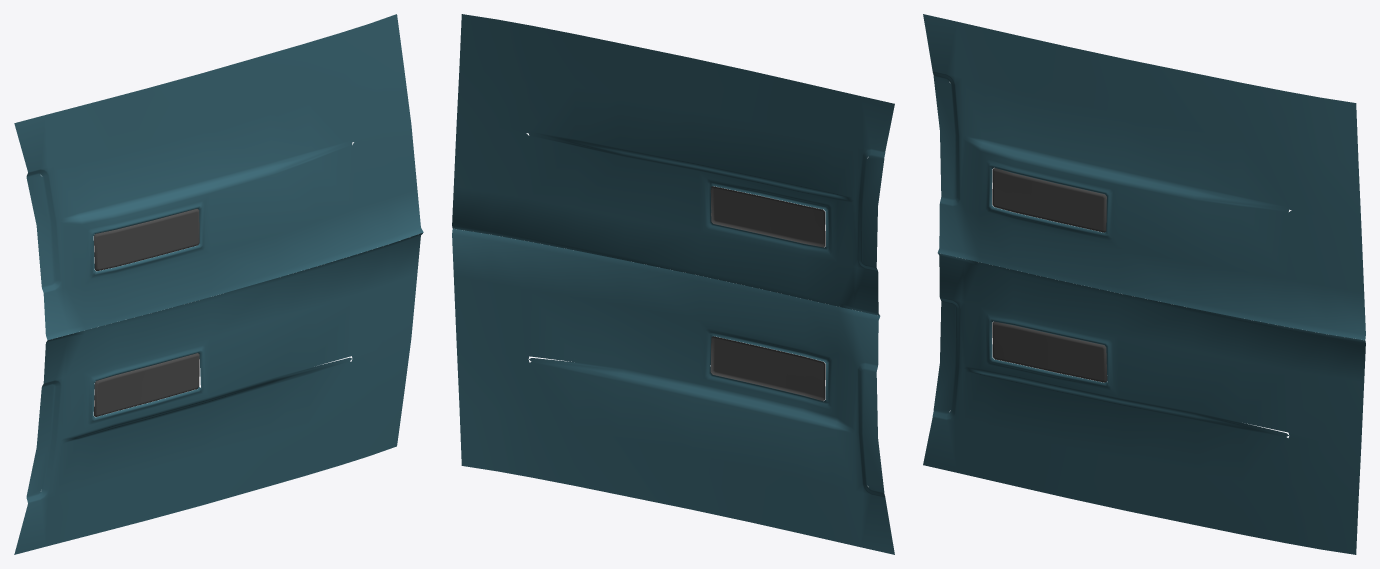
File: CamaroCover.obj
3 renders of one model, left to right at view 1: azimuth 30°, elevation 25°; view 2: azimuth 150°, elevation 25°; view 3: azimuth 330°, elevation 25°, orthographic. The views are drawn at different scales.
Bounding box in the file's own units: 5.68 × 5.64 × 0.6027.
